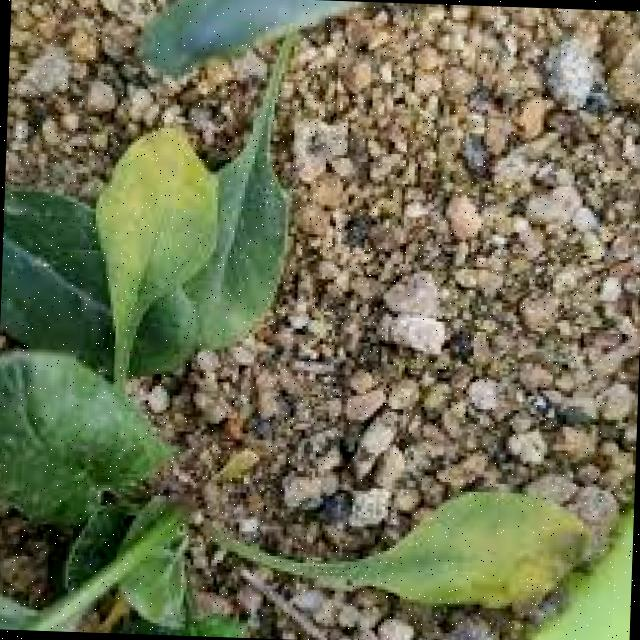rotten spinach: (183, 450, 604, 634), (48, 85, 276, 382)
